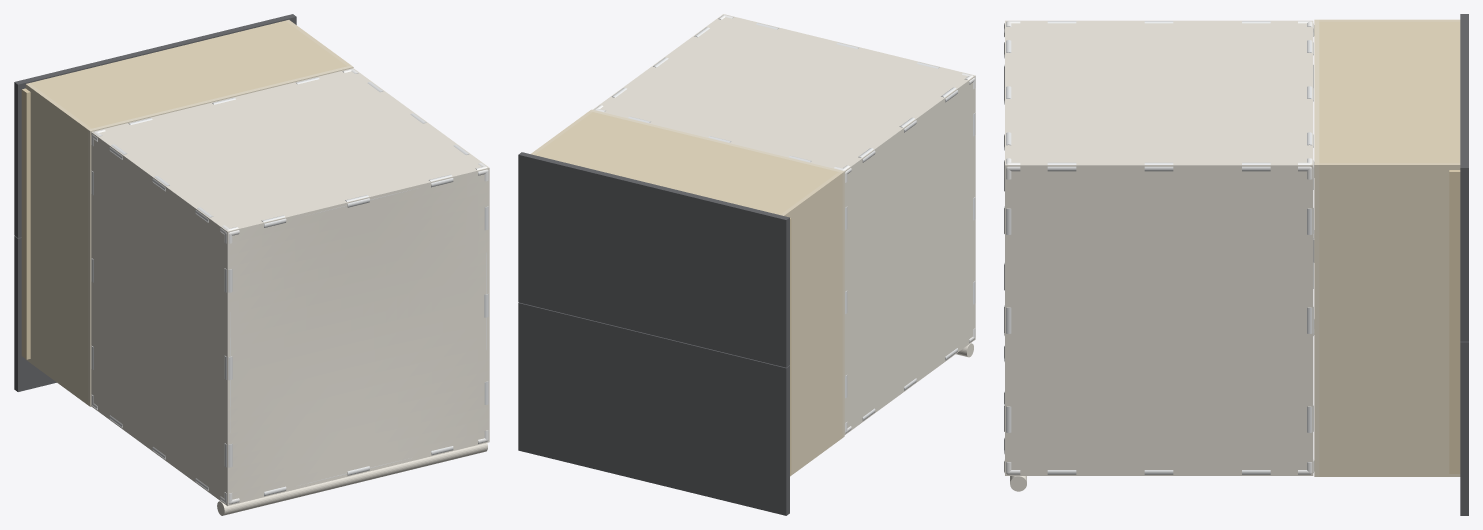
File: hutch.glb
The picture shows the model from 3 angles, left to right: view 1: azimuth 30°, elevation 25°; view 2: azimuth 150°, elevation 25°; view 3: azimuth 270°, elevation 25°; orthographic projection. The views are drawn at different scales.
Visible parts, largest first — view 1: canvas-34, canvas-35, canvas-37, side-left-0, back-2, table-0.00, cleat-left-8, front-flap-rolled, deck-7, table--0.68; view 2: table-0.00, table--0.68, canvas-35, canvas-37, back-2, side-left-0, deck-7; view 3: canvas-36, canvas-37, side-right-1, back-2, cleat-right-9, table-0.00, deck-7, table--0.68.
Boxes of the visible parts, box(x1,y1,x2,y2) form: canvas-34: box(227, 168, 489, 505); canvas-35: box(91, 132, 227, 505); canvas-37: box(91, 68, 489, 231); side-left-0: box(25, 83, 91, 404); back-2: box(30, 21, 346, 128); table-0.00: box(14, 14, 296, 237); cleat-left-8: box(21, 88, 30, 359); front-flap-rolled: box(217, 443, 487, 515); deck-7: box(88, 65, 353, 406); table--0.68: box(14, 236, 56, 391); table-0.00: box(518, 152, 789, 367); table--0.68: box(518, 302, 789, 515); canvas-35: box(844, 76, 975, 434); canvas-37: box(593, 14, 975, 171); back-2: box(534, 112, 838, 214); side-left-0: box(780, 172, 842, 476); deck-7: box(590, 109, 844, 437); canvas-36: box(1005, 165, 1313, 475); canvas-37: box(1005, 20, 1313, 165); side-right-1: box(1319, 163, 1460, 476); back-2: box(1319, 21, 1460, 162); cleat-right-9: box(1449, 170, 1460, 473); table-0.00: box(1460, 14, 1468, 341); deck-7: box(1314, 19, 1319, 476); table--0.68: box(1460, 341, 1468, 515).
Size of the model in its own units: 1.29 by 1.36 by 1.65.
